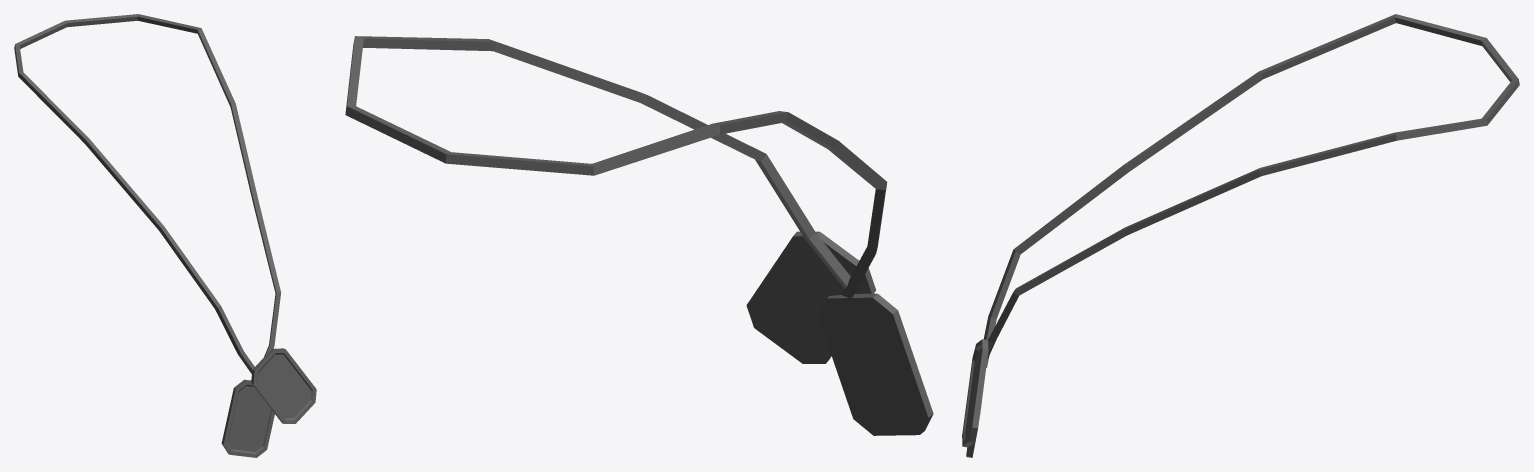
File: DogTags_01_SM.FBX
The picture shows the model from 3 angles, left to right: view 1: azimuth 30°, elevation 25°; view 2: azimuth 150°, elevation 25°; view 3: azimuth 270°, elevation 25°; orthographic projection. The views are drawn at different scales.
Parts seen in each view (by area): view 1: DogTags_01_SM; view 2: DogTags_01_SM; view 3: DogTags_01_SM.
Part boxes in pixels (x1,y1,x2,y2): DogTags_01_SM: [14, 14, 316, 457]; DogTags_01_SM: [345, 36, 933, 435]; DogTags_01_SM: [962, 14, 1519, 457].
Size of what is drawn, in the model's own units: 12.78 by 24.87 by 19.26.
